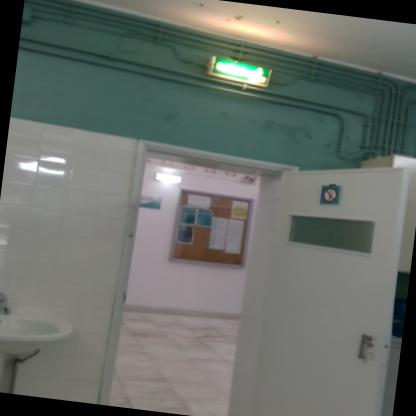open: (91, 113, 415, 415)
